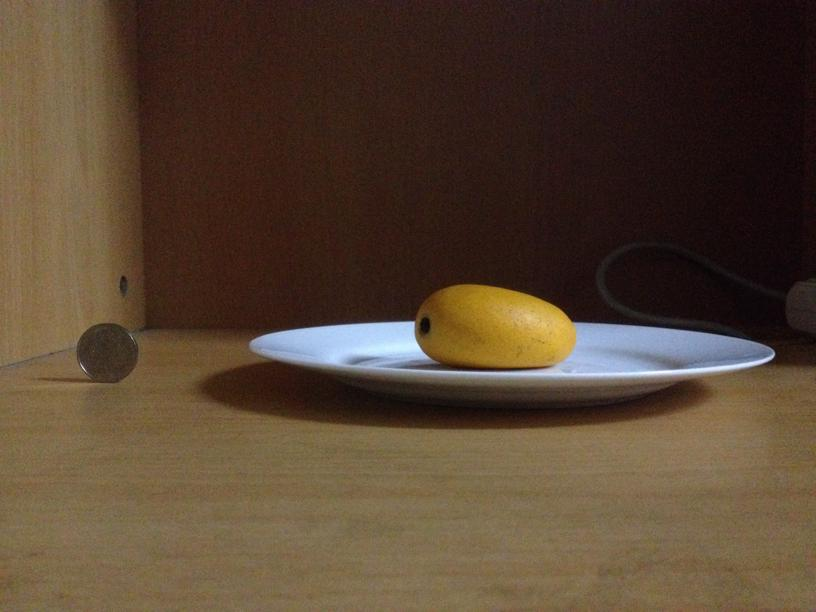coin: (75, 322, 138, 383)
mango: (411, 283, 575, 368)
